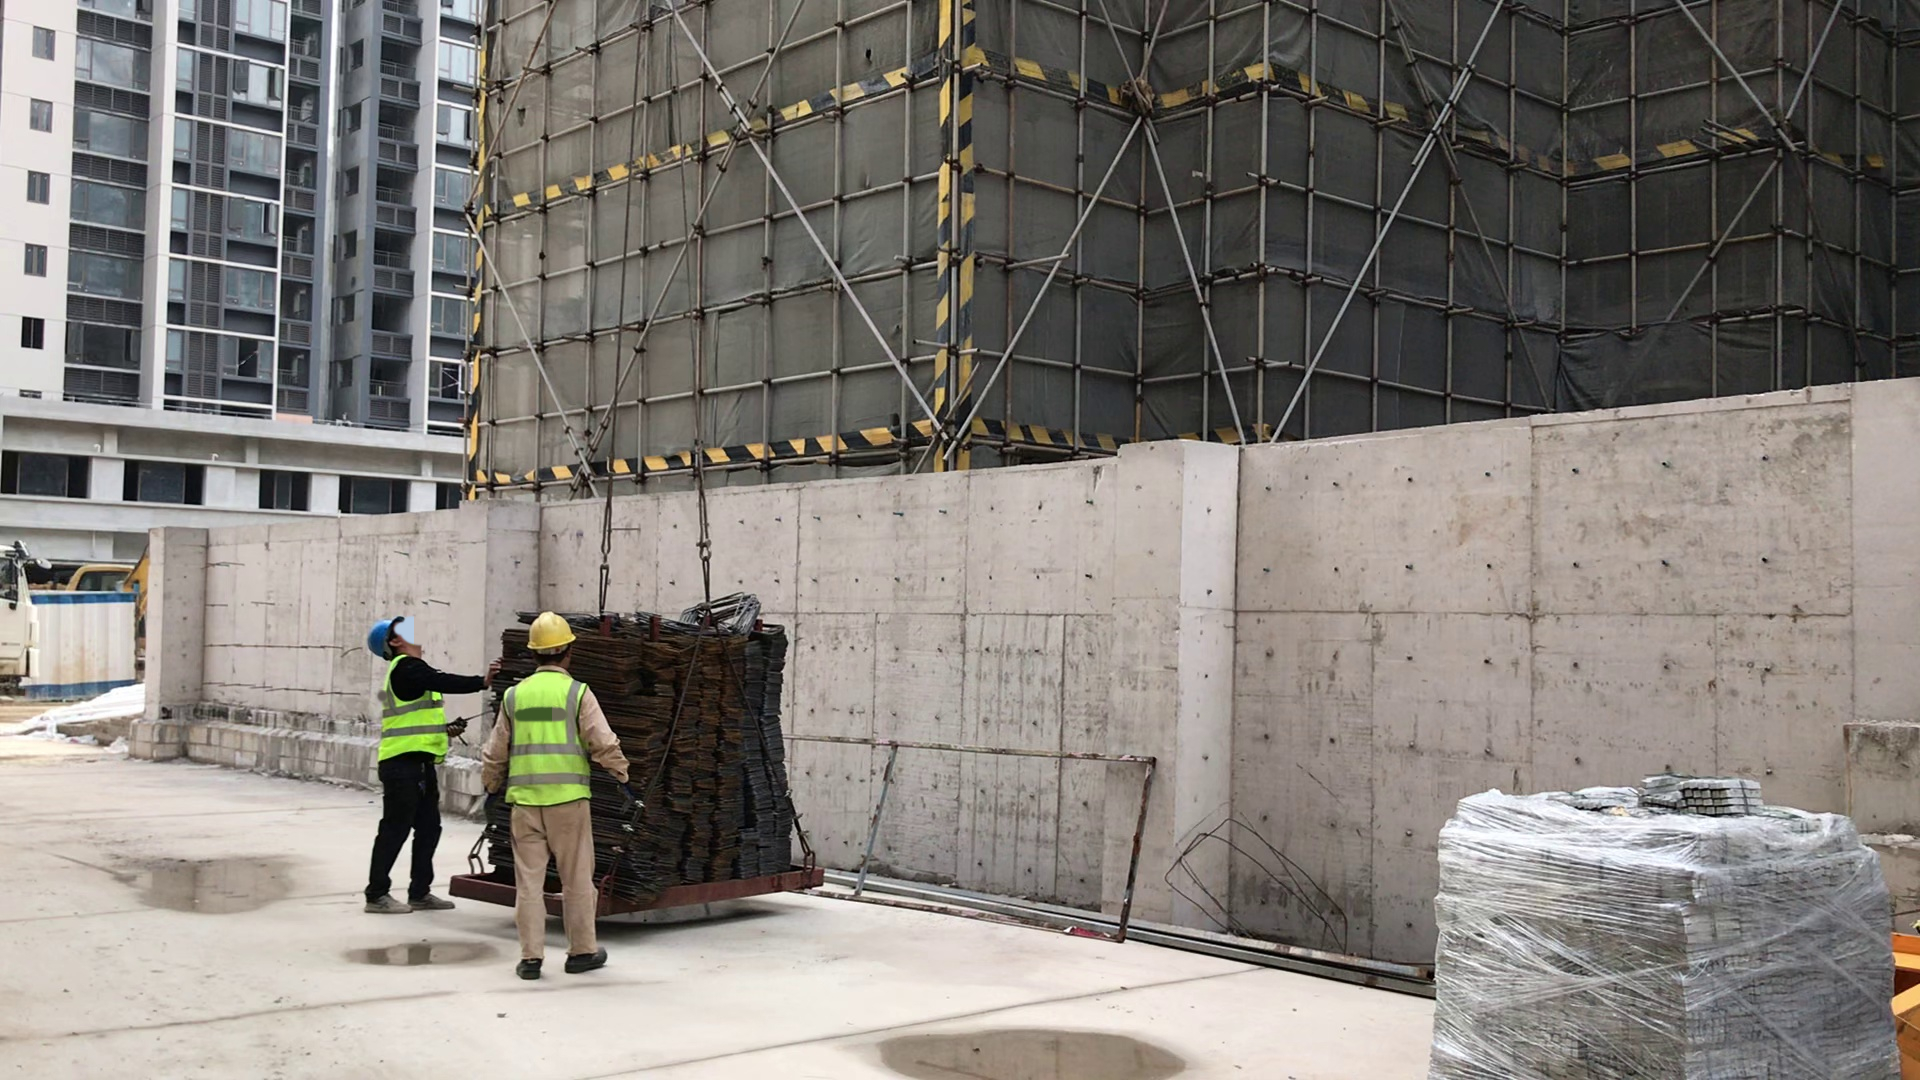helmet: (519, 602, 584, 651), (356, 613, 421, 660)
person: (497, 603, 634, 989), (354, 615, 465, 915)
vest: (504, 670, 604, 815), (371, 665, 450, 762)
